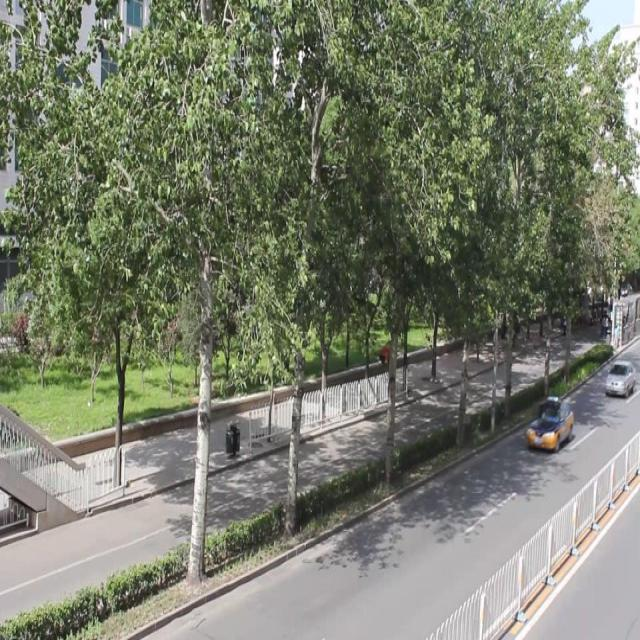car: (526, 395, 572, 449), (604, 358, 640, 396)
